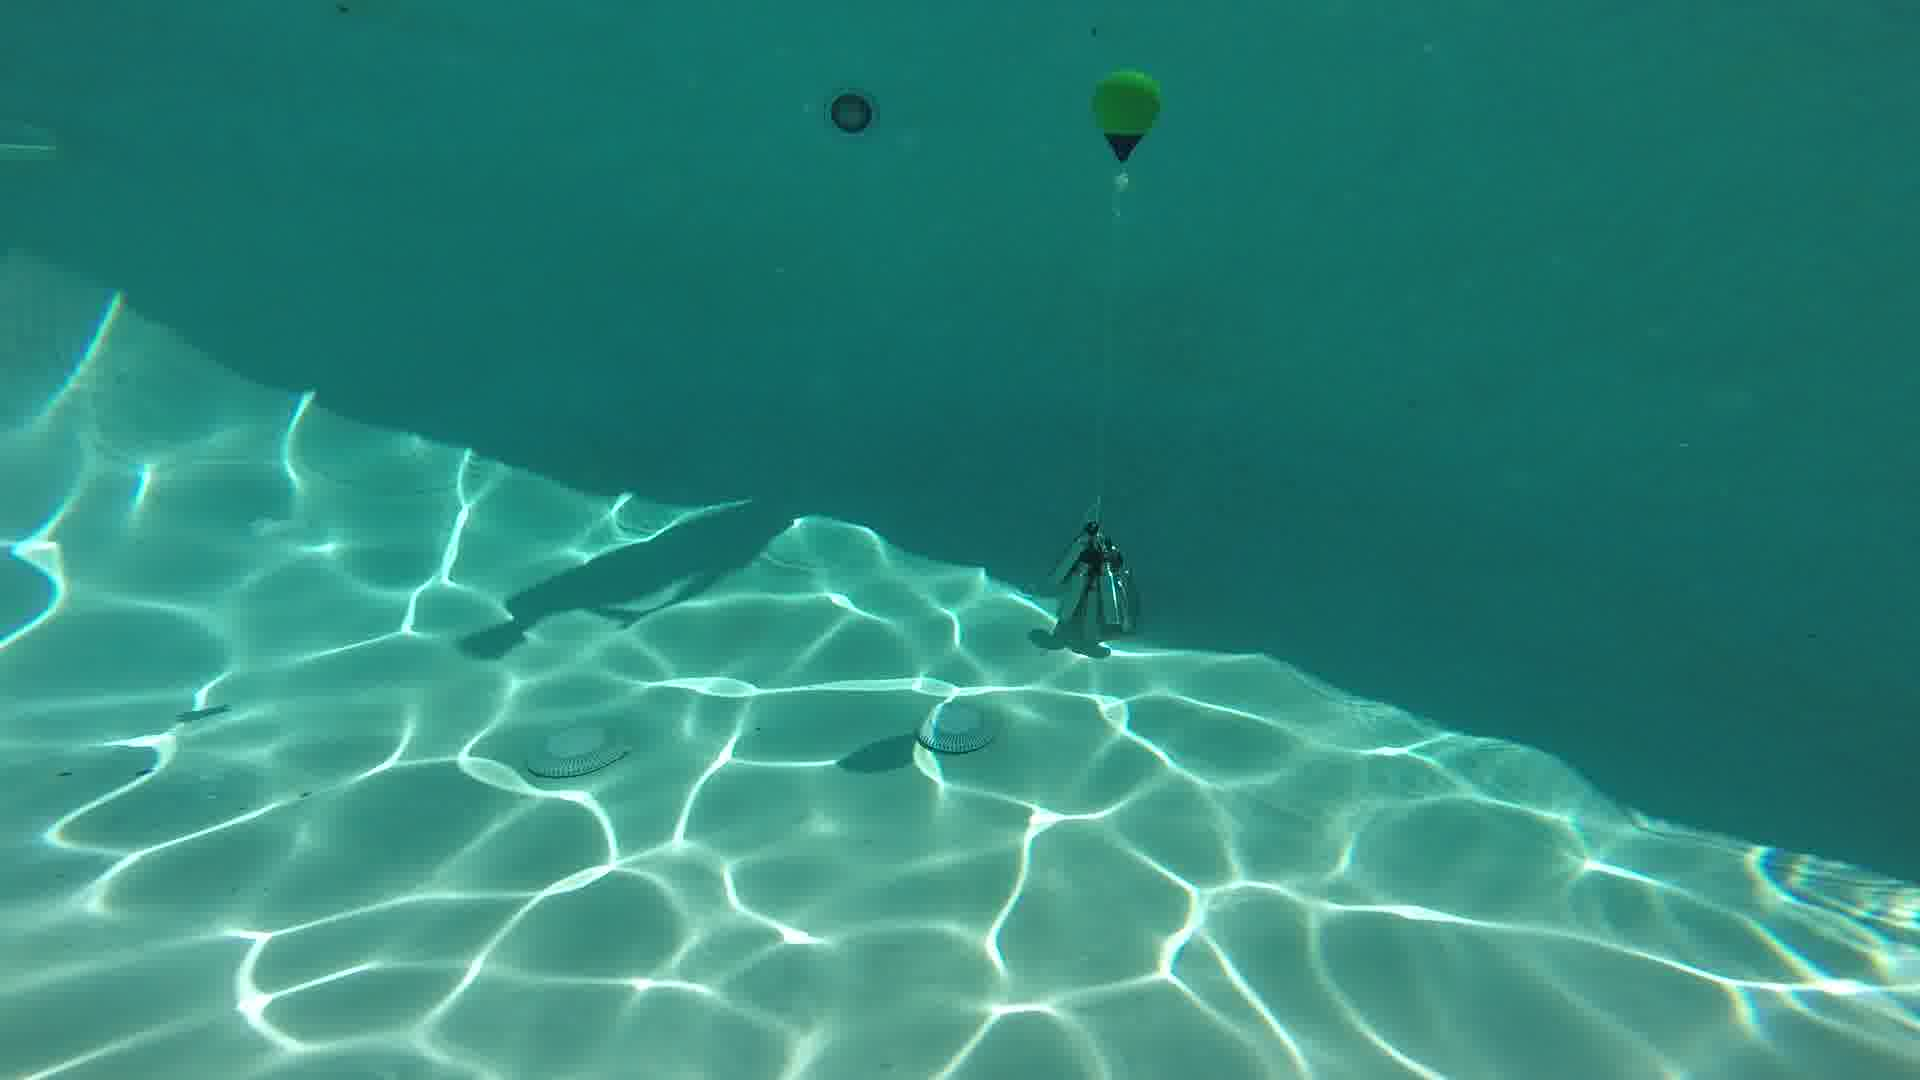yellow_buoy: (1091, 67, 1160, 198)
